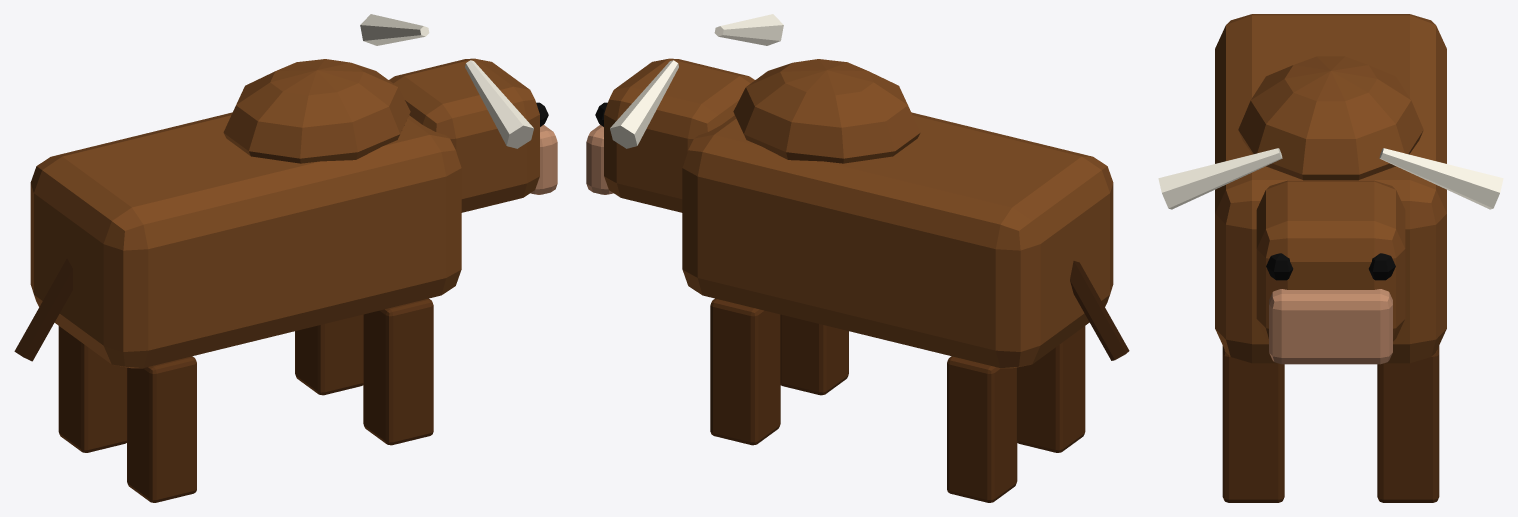
The model's file is an-ox-BFopEzwE.glb.
3 views of the same model, side by side, from view 1: azimuth 30°, elevation 25°; view 2: azimuth 150°, elevation 25°; view 3: azimuth 270°, elevation 25° (orthographic). The views are drawn at different scales.
Visible parts, largest first — view 1: an-ox; view 2: an-ox; view 3: an-ox.
Part boxes in pixels (box(x1,y1,x2,y2)): an-ox: box(14, 14, 557, 502); an-ox: box(586, 14, 1129, 502); an-ox: box(1158, 14, 1503, 502).
Size of the model in its own units: 0.2193 by 0.141 by 0.1116.
